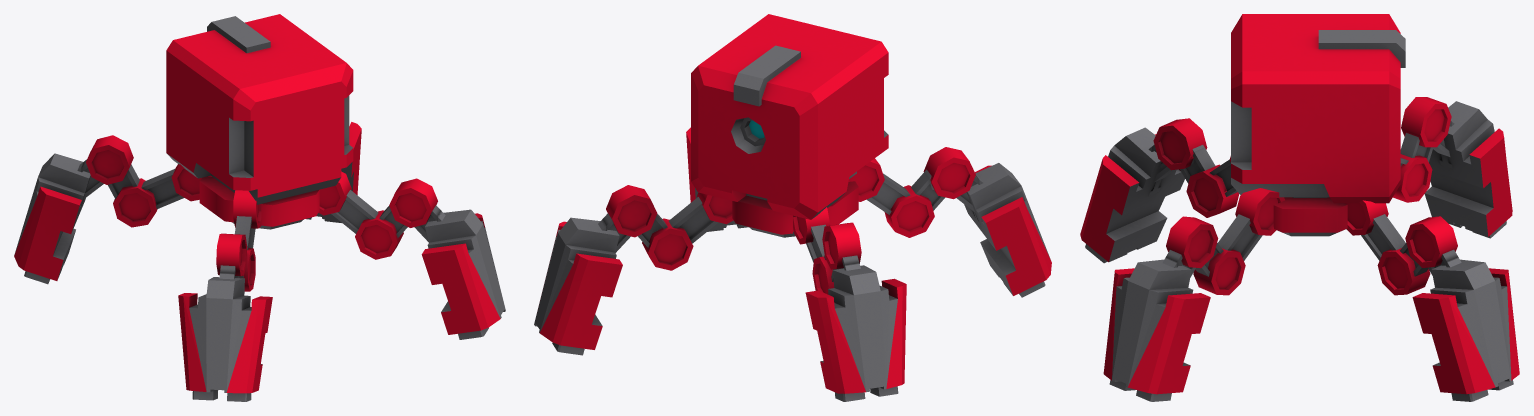
File: Monster1_Move1.obj
The picture shows the model from 3 angles, left to right: view 1: azimuth 30°, elevation 25°; view 2: azimuth 150°, elevation 25°; view 3: azimuth 270°, elevation 25°; orthographic projection. The views are drawn at different scales.
Visible parts, largest first — view 1: Box006, Object021, Object017, Object025, Object020, Object028, Object027, Object018, Object019, Object026, Object024, Object022 (+2 smaller); view 2: Box006, Object025, Object013, Object021, Object016, Object023, Object024, Object015, Object014, Object022, Object028, Object026 (+2 smaller); view 3: Box006, Object013, Object017, Object021, Object025, Object018, Object023, Object016, Object020, Object024, Object014, Object028 (+4 smaller).
Boxes of the visible parts, x1,y1,x2,y2 form: Box006: (166,14,353,229); Object021: (178,277,272,401); Object017: (421,209,505,339); Object025: (14,153,90,284); Object020: (389,178,445,242); Object028: (77,135,133,199); Object027: (108,164,157,227); Object018: (318,171,378,233); Object019: (355,206,407,259); Object026: (141,164,211,209); Object024: (216,233,247,279); Object022: (233,190,261,249); Box006: (691,14,888,237); Object025: (805,265,906,401); Object013: (534,217,622,355); Object021: (964,163,1051,297); Object016: (598,185,657,252); Object023: (884,169,945,237); Object024: (923,147,982,212); Object015: (638,214,693,270); Object014: (668,192,733,243); Object022: (848,158,910,214); Object028: (822,222,861,270); Object026: (793,207,830,262); Box006: (1231,14,1405,236); Object013: (1412,259,1519,401); Object017: (1103,259,1210,401); Object021: (1080,127,1184,263); Object025: (1424,101,1512,238); Object018: (1218,188,1284,260); Object023: (1180,145,1239,217); Object016: (1405,216,1461,275); Object020: (1162,216,1218,277); Object024: (1148,118,1207,182); Object014: (1344,200,1405,260); Object028: (1401,97,1454,156).
Bounding box in the file's own units: 150 × 109 × 153.
